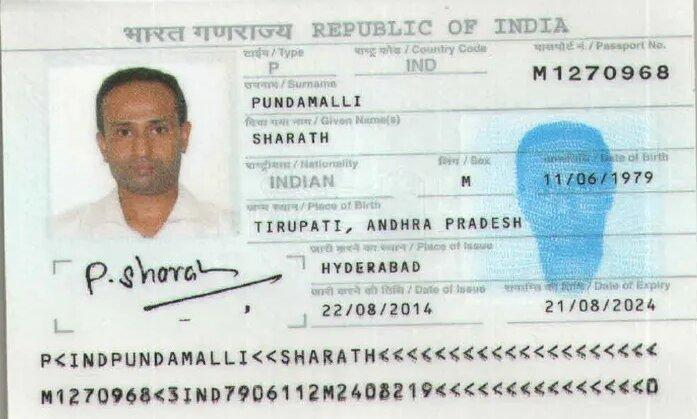DOB: (535, 165, 675, 193)
Surname: (246, 88, 375, 114)
country_code: (398, 52, 450, 77)
date_of_expiry: (529, 292, 684, 320)
date_of_issue: (313, 295, 450, 326)
details: (28, 336, 674, 413)
name: (247, 126, 352, 155)
nationality: (256, 168, 356, 196)
passport_no: (522, 52, 680, 94)
photo: (45, 61, 242, 238)
place_of_birth: (245, 212, 551, 241)
place_of_issue: (315, 252, 443, 281)
sex: (443, 166, 493, 193)
sign: (74, 245, 295, 328)
type: (252, 55, 312, 77)
